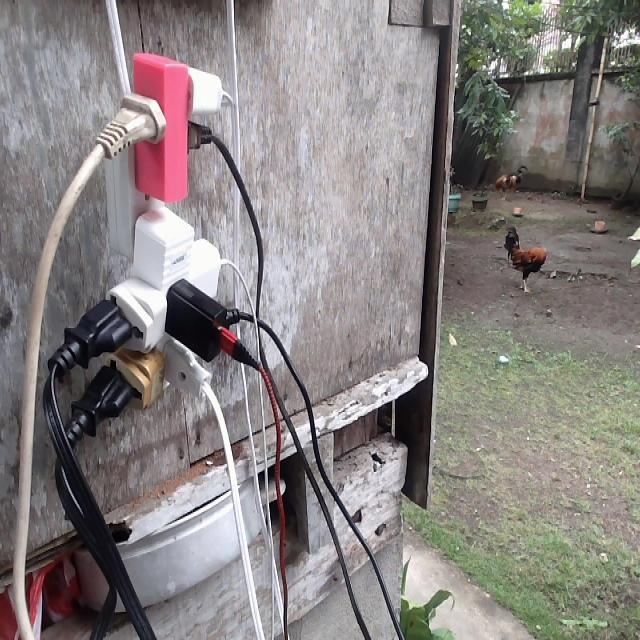-: (71, 47, 238, 414)
